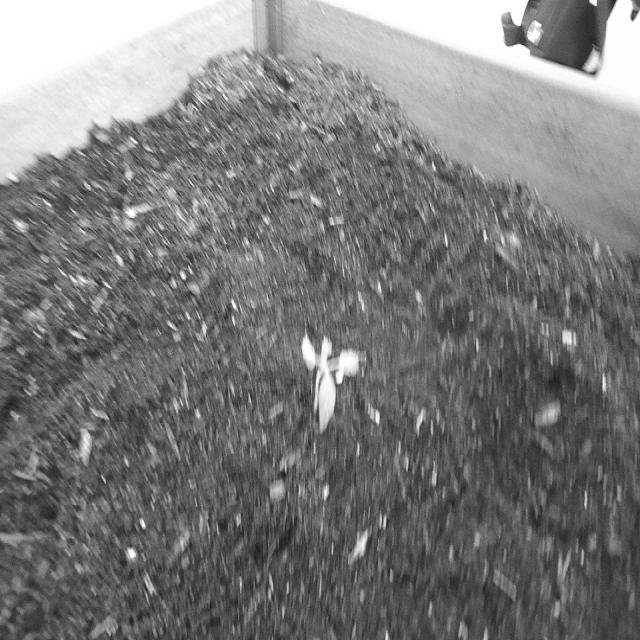Healthy: (286, 312, 370, 438)
